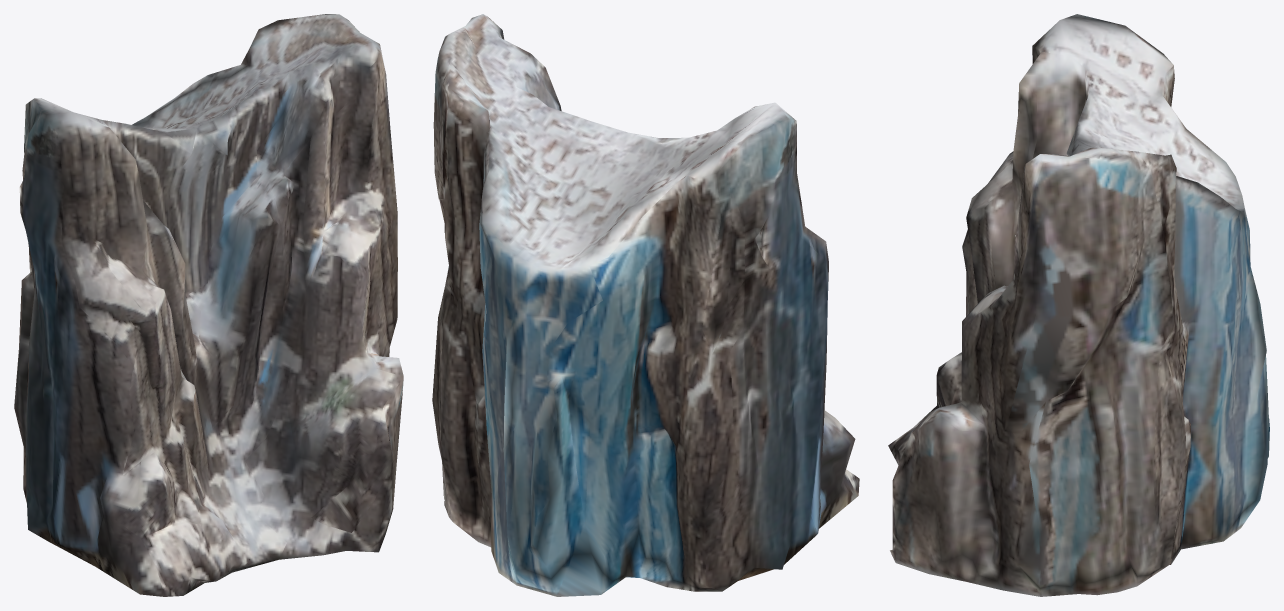
File: SnowCanyon_Wall.fbx
The picture shows the model from 3 angles, left to right: view 1: azimuth 30°, elevation 25°; view 2: azimuth 150°, elevation 25°; view 3: azimuth 270°, elevation 25°; orthographic projection. The views are drawn at different scales.
Visible parts, largest first — view 1: SnowCanyon_Wall_Mesh; view 2: SnowCanyon_Wall_Mesh; view 3: SnowCanyon_Wall_Mesh.
Boxes of the visible parts, <box> form: SnowCanyon_Wall_Mesh: <box>14,14,403,596</box>; SnowCanyon_Wall_Mesh: <box>432,14,859,596</box>; SnowCanyon_Wall_Mesh: <box>888,14,1269,596</box>.
Bounding box in the file's own units: 6 × 7.7 × 5.95.
Materials: 1 (1 with a texture image).
